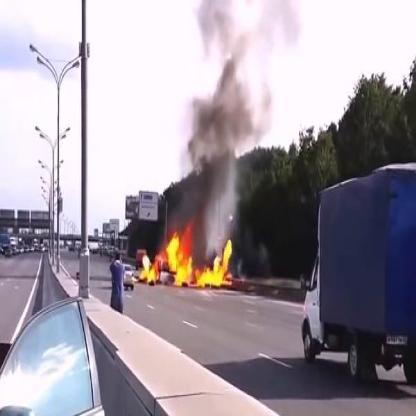fire: (165, 225, 235, 294), (137, 250, 158, 285)
